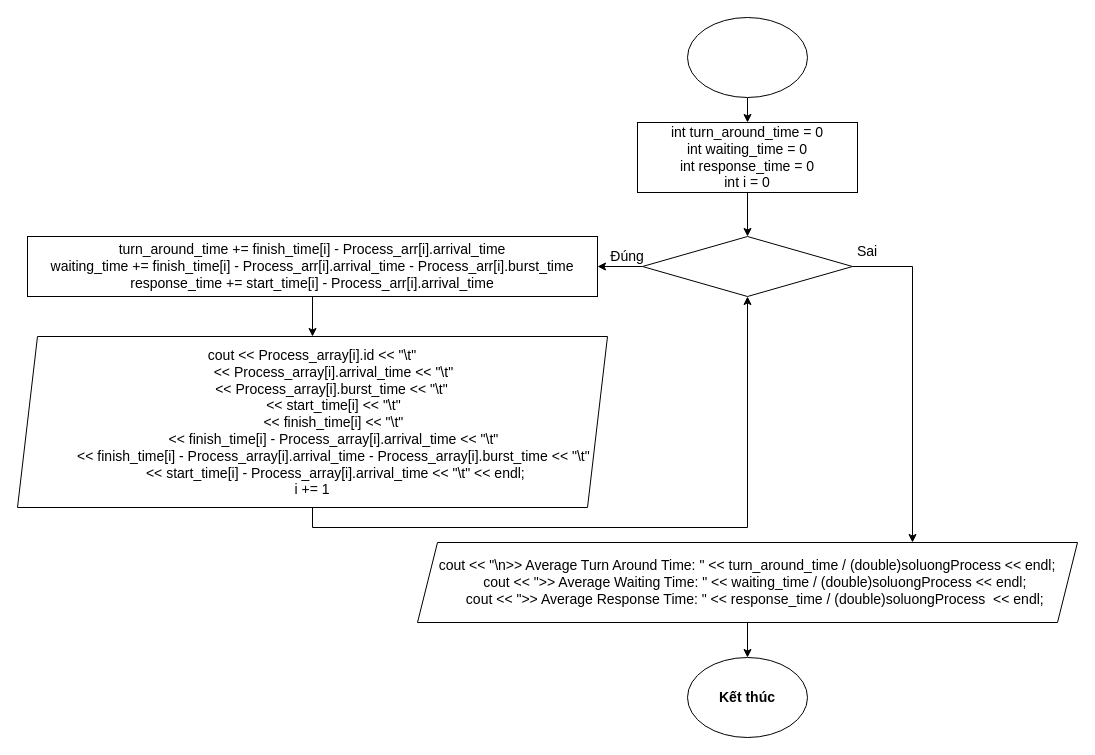
This 1095x755 diagram has some shape labels left out. The shapes that lost their labels are listed below. From the top down, each one's box as (x1, y1, x2, y2) in pixels, then its label:
(686, 16, 808, 98): Bắt đầu
(642, 236, 852, 296): i < soluongProcess
